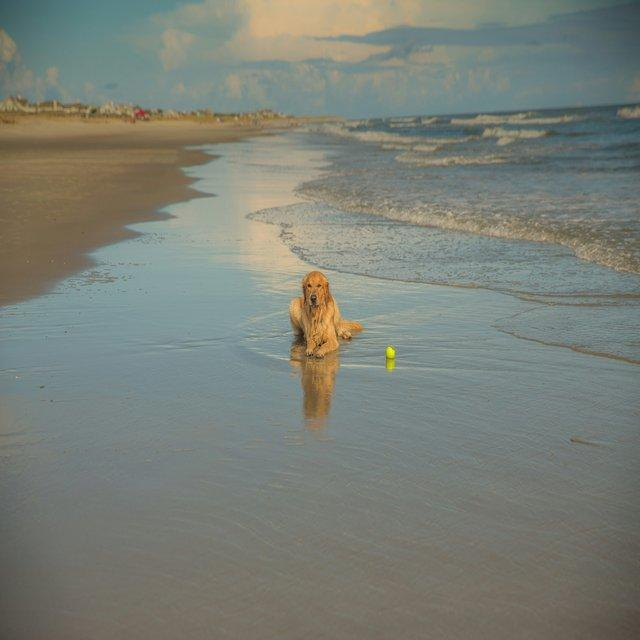retriever: (287, 269, 363, 358)
